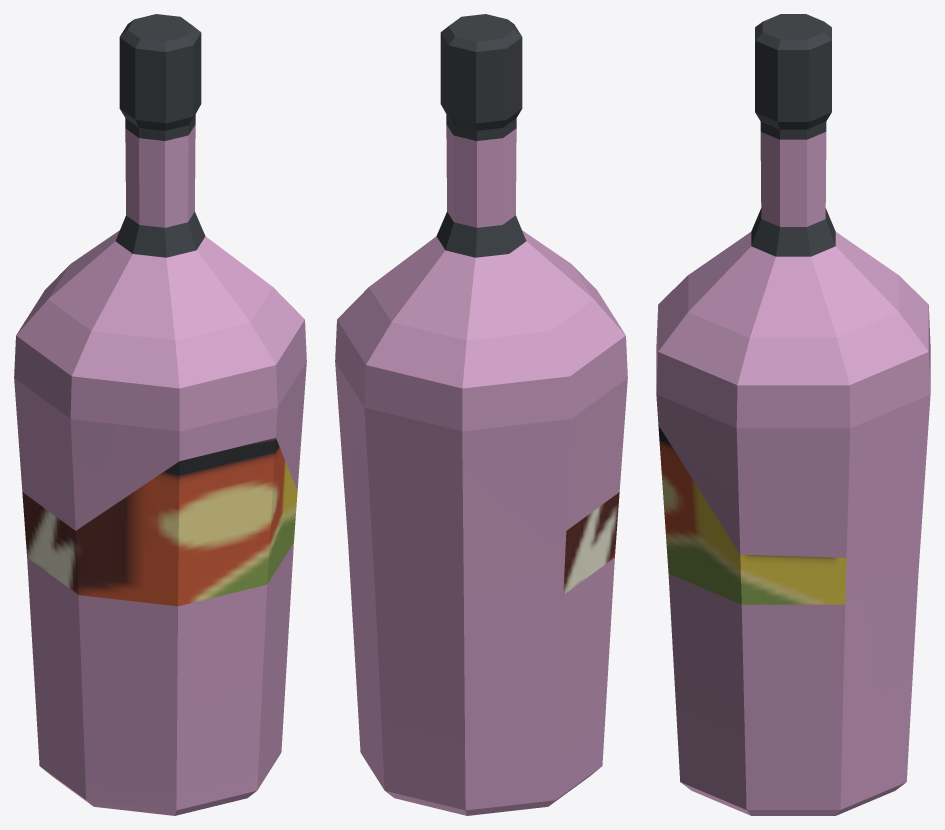
File: SM_Prop_Bottle_Large_01.obj
3 renders of one model, left to right at view 1: azimuth 30°, elevation 25°; view 2: azimuth 150°, elevation 25°; view 3: azimuth 270°, elevation 25°, orthographic.
Visible parts, largest first — view 1: SM_Prop_Bottle_Large_01_0; view 2: SM_Prop_Bottle_Large_01_0; view 3: SM_Prop_Bottle_Large_01_0.
Part boxes in pixels (bbox=[...]): SM_Prop_Bottle_Large_01_0: bbox=[14, 14, 306, 815]; SM_Prop_Bottle_Large_01_0: bbox=[335, 14, 627, 815]; SM_Prop_Bottle_Large_01_0: bbox=[656, 14, 930, 815].
Size of the model in its own units: 0.1554 by 0.4664 by 0.1554.
Materials: 1 (1 with a texture image).
